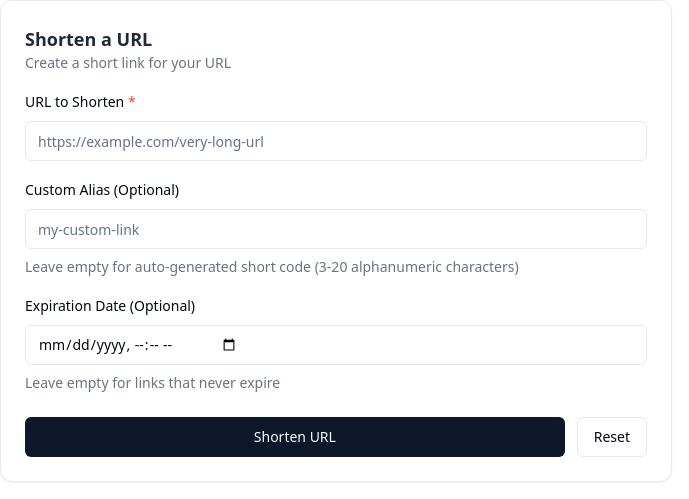
Scenario: CreateUrlForm › resets form when reset button is clicked
Type "https://example.com" into the field labelled "URL to Shorten *" at (336, 141), box [25, 121, 647, 161]
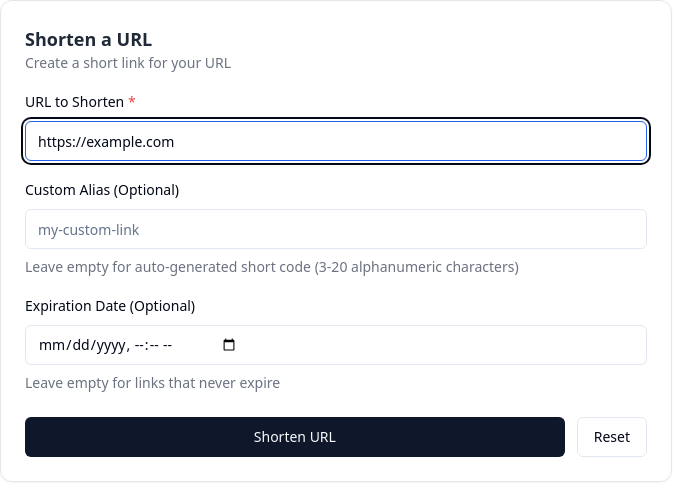
Type "my-link" into the field labelled "Custom Alias (Optional)" at (336, 229), box [25, 209, 647, 249]
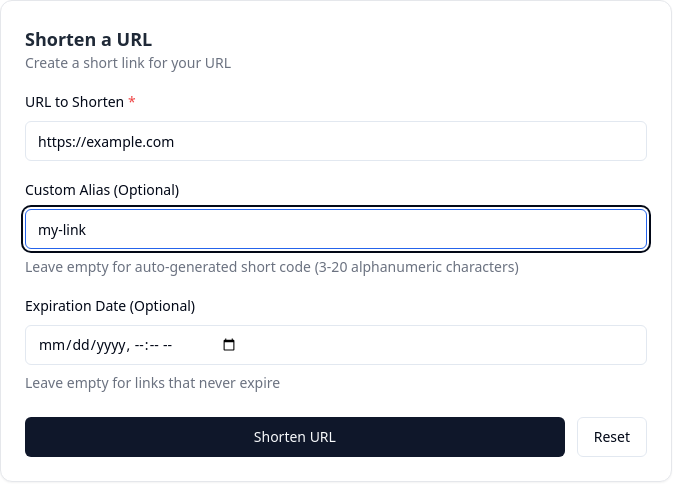
Click the button "Reset" at (612, 437), box [577, 417, 647, 457]
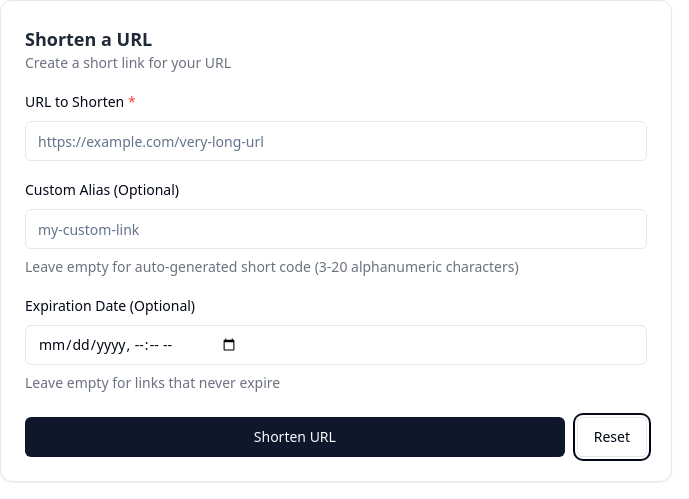
Now the field labelled "URL to Shorten *" is empty, box [25, 121, 647, 161]
Now the field labelled "Custom Alias (Optional)" is empty, box [25, 209, 647, 249]
